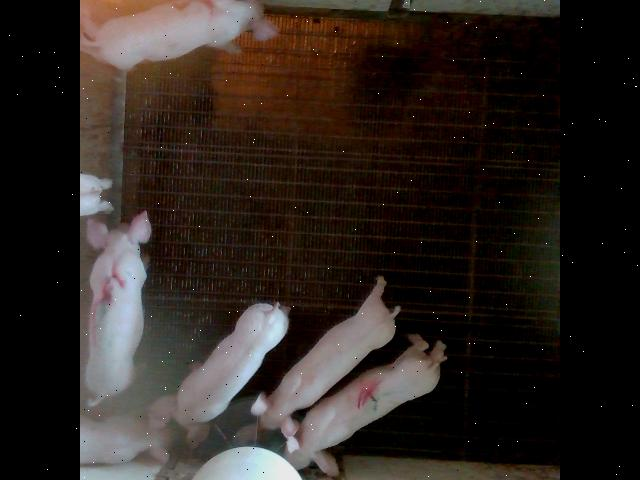pig-2: (87, 0, 278, 69)
pig-3: (85, 211, 151, 405)
pig-4: (285, 334, 446, 474)
